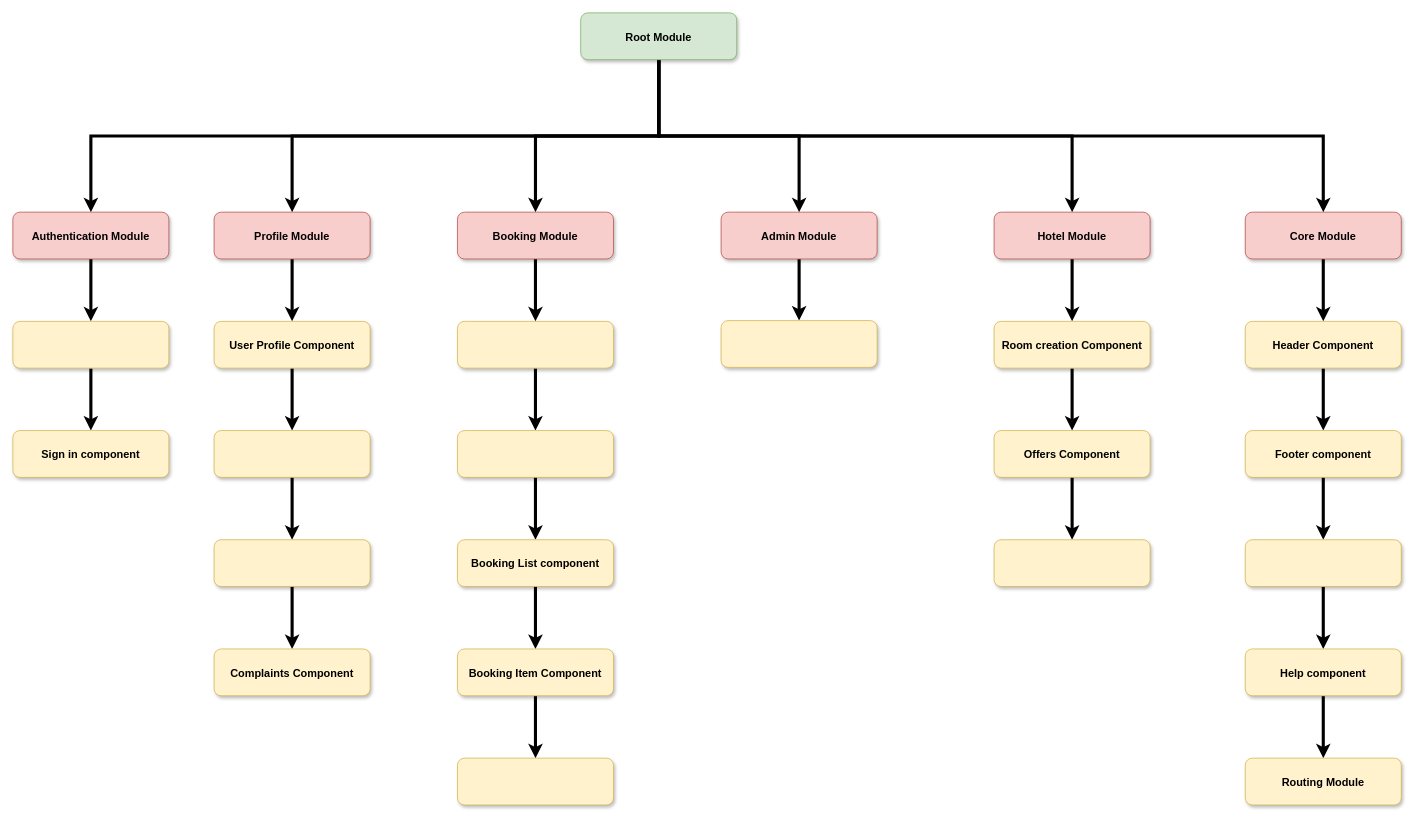
The diagram is 1414 pixels wide and 817 high, and some of its shapes have lost their labels. The centre of each missing label's shape, as x and y in pixels:
About Us component: (1323,564)
Bilk Upload Component: (799,345)
Block Users&Merchant: (1072,564)
Booking Details Component: (536,782)
Filter Component: (536,455)
Review Component: (292,564)
Search Component: (536,345)
Signup component: (91,345)
User Booking Component: (292,455)
